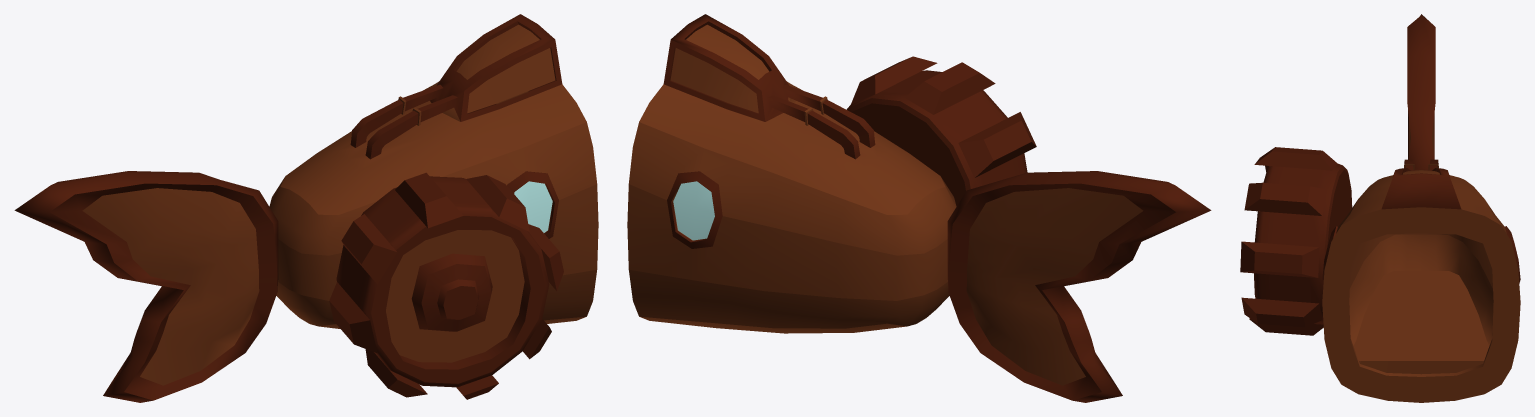
The model's file is Submarine Back.fbx.
The picture shows the model from 3 angles, left to right: view 1: azimuth 30°, elevation 25°; view 2: azimuth 150°, elevation 25°; view 3: azimuth 270°, elevation 25°; orthographic projection. The views are drawn at different scales.
Parts seen in each view (by area): view 1: SubmarineBack, Wheel, BackFin, BackWindow; view 2: SubmarineBack, BackFin, Wheel, BackWindow; view 3: SubmarineBack, Wheel, BackFin.
Boxes of the visible parts, box(x1,y1,x2,y2) form: SubmarineBack: box(269, 14, 598, 328); Wheel: box(329, 172, 563, 399); BackFin: box(14, 171, 278, 402); BackWindow: box(514, 181, 552, 232); SubmarineBack: box(627, 14, 956, 333); BackFin: box(947, 171, 1211, 402); Wheel: box(846, 56, 1036, 206); BackWindow: box(673, 181, 714, 240); SubmarineBack: box(1322, 159, 1520, 402); Wheel: box(1240, 147, 1352, 335); BackFin: box(1407, 14, 1435, 169).
Size of the model in its own units: 57.46 by 29.56 by 32.6.
